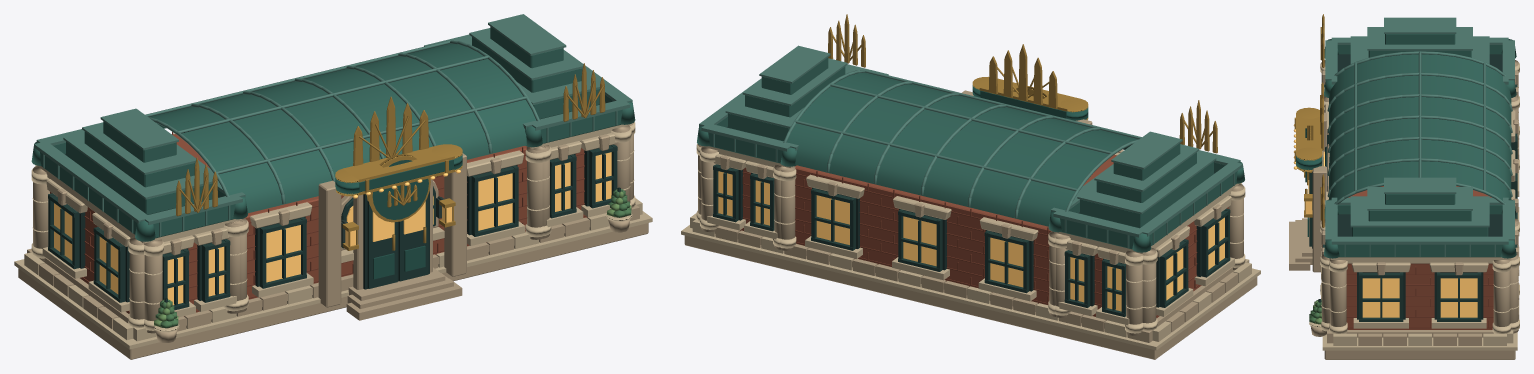
3 views of the same model, side by side, from view 1: azimuth 30°, elevation 25°; view 2: azimuth 150°, elevation 25°; view 3: azimuth 270°, elevation 25° (orthographic). The views are drawn at different scales.
Visible parts, largest first — view 1: expansion_finance_1_geometry; view 2: expansion_finance_1_geometry; view 3: expansion_finance_1_geometry.
Part boxes in pixels (x1,y1,x2,y2): expansion_finance_1_geometry: (14,14,652,359); expansion_finance_1_geometry: (681,14,1260,359); expansion_finance_1_geometry: (1289,14,1519,359).
Bounding box in the file's own units: 2.26 × 0.8324 × 1.02.
